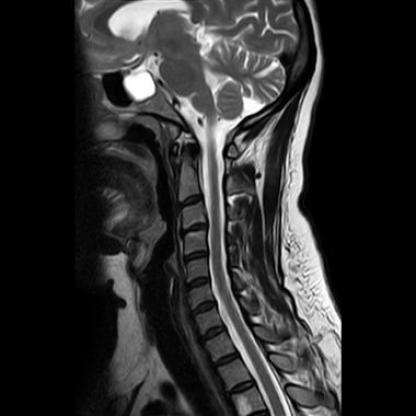Disc Bulgerotation: (180, 221, 209, 236), (182, 251, 209, 265)
